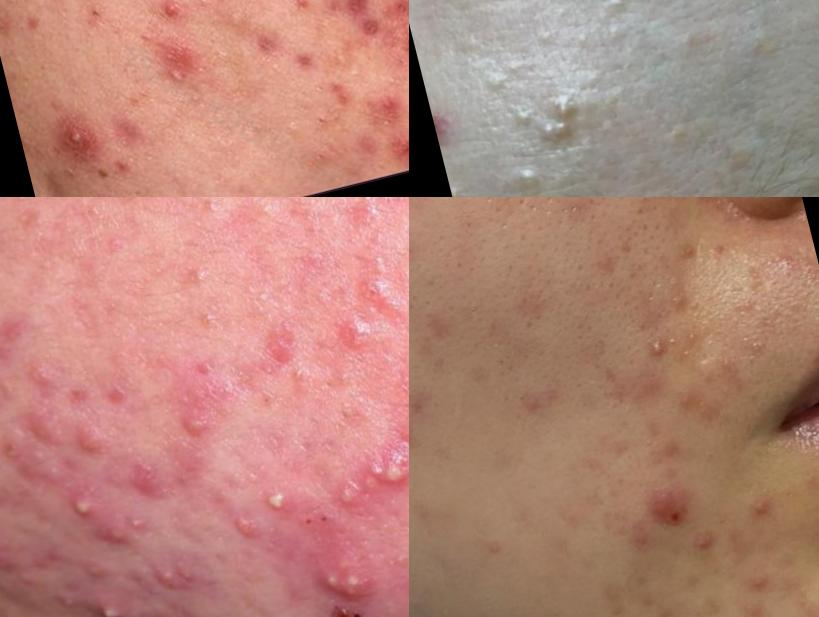acne_scars: (135, 17, 222, 110)
blackhead: (303, 111, 334, 140)
keloid: (45, 553, 196, 617), (1, 508, 49, 600)
papular: (157, 339, 268, 433), (230, 299, 326, 396), (1, 416, 92, 510), (1, 331, 81, 418), (320, 1, 396, 57), (727, 478, 791, 537), (156, 406, 228, 455), (216, 496, 274, 556), (665, 376, 724, 431), (66, 423, 130, 473), (20, 394, 80, 446), (508, 374, 560, 425), (658, 228, 716, 273), (730, 555, 777, 600), (359, 93, 402, 124), (152, 1, 192, 28), (410, 225, 425, 281), (393, 132, 410, 166)
purulent: (47, 467, 120, 562), (312, 313, 396, 384), (249, 476, 305, 530), (633, 326, 681, 377), (49, 118, 93, 158), (389, 12, 410, 63)
sebo-crystan-conglo: (310, 428, 410, 531), (613, 466, 717, 564), (292, 537, 405, 613), (41, 483, 122, 540)
whitehead: (173, 249, 222, 305), (540, 79, 593, 128), (527, 106, 582, 152), (344, 198, 406, 232), (656, 113, 700, 155), (667, 19, 707, 63), (511, 160, 553, 198), (525, 23, 564, 60), (595, 1, 641, 28), (510, 102, 542, 136), (489, 67, 516, 89), (1, 198, 14, 240), (396, 357, 410, 391)
